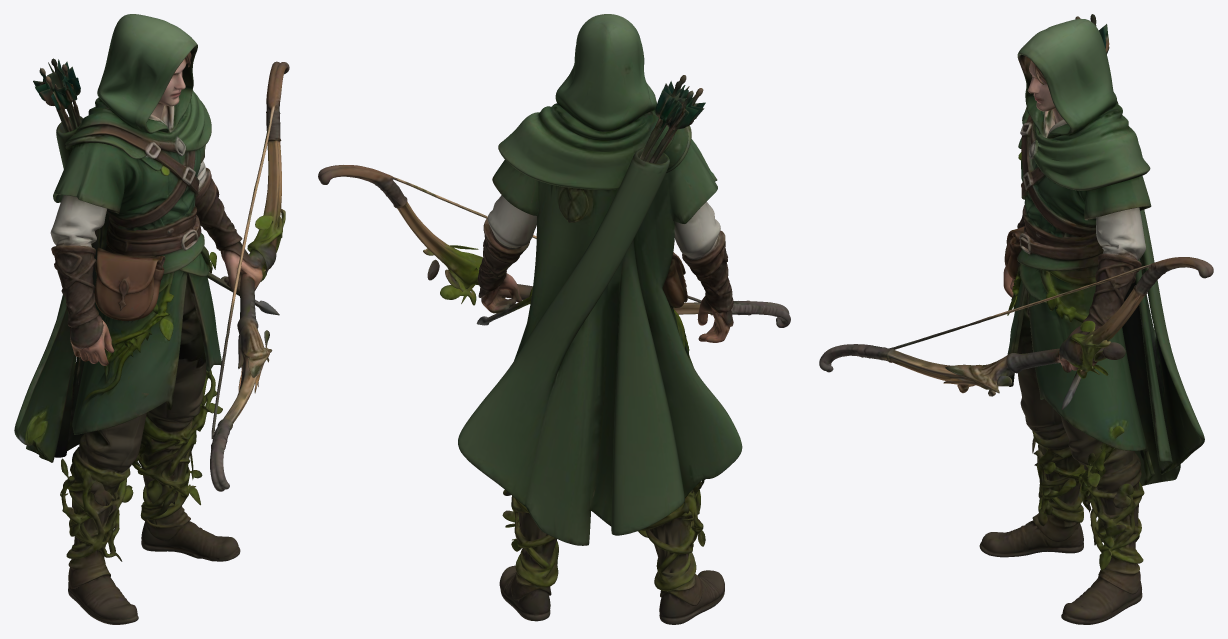
The model's file is hero_m_1.glb.
The picture shows the model from 3 angles, left to right: view 1: azimuth 30°, elevation 25°; view 2: azimuth 150°, elevation 25°; view 3: azimuth 270°, elevation 25°; orthographic projection. The views are drawn at different scales.
Parts seen in each view (by area): view 1: node_0; view 2: node_0; view 3: node_0.
Part boxes in pixels (x1=…): node_0: x1=14, y1=14, x2=289, y2=624; node_0: x1=318, y1=14, x2=790, y2=624; node_0: x1=819, y1=14, x2=1213, y2=624.
Bounding box in the file's own units: 0.692 × 1.1 × 0.7003.
1 material, 1 textured.
